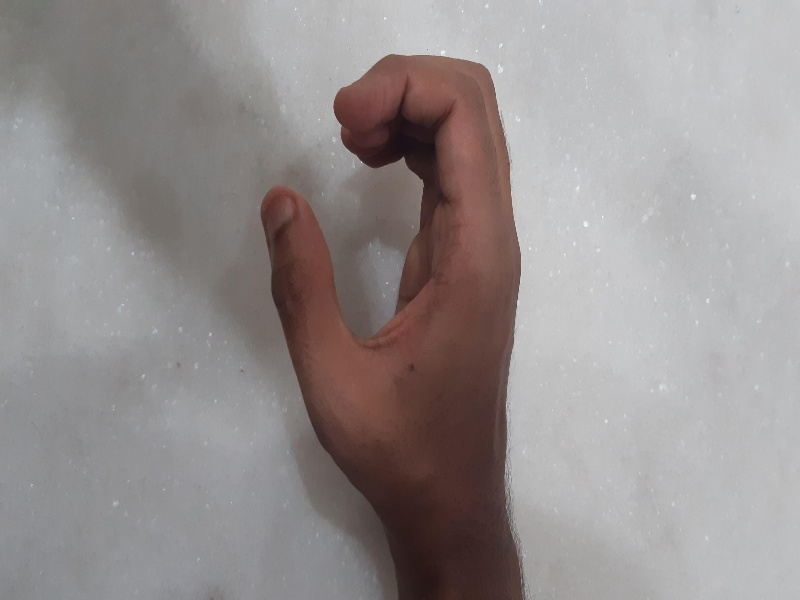one: (255, 44, 533, 518)
